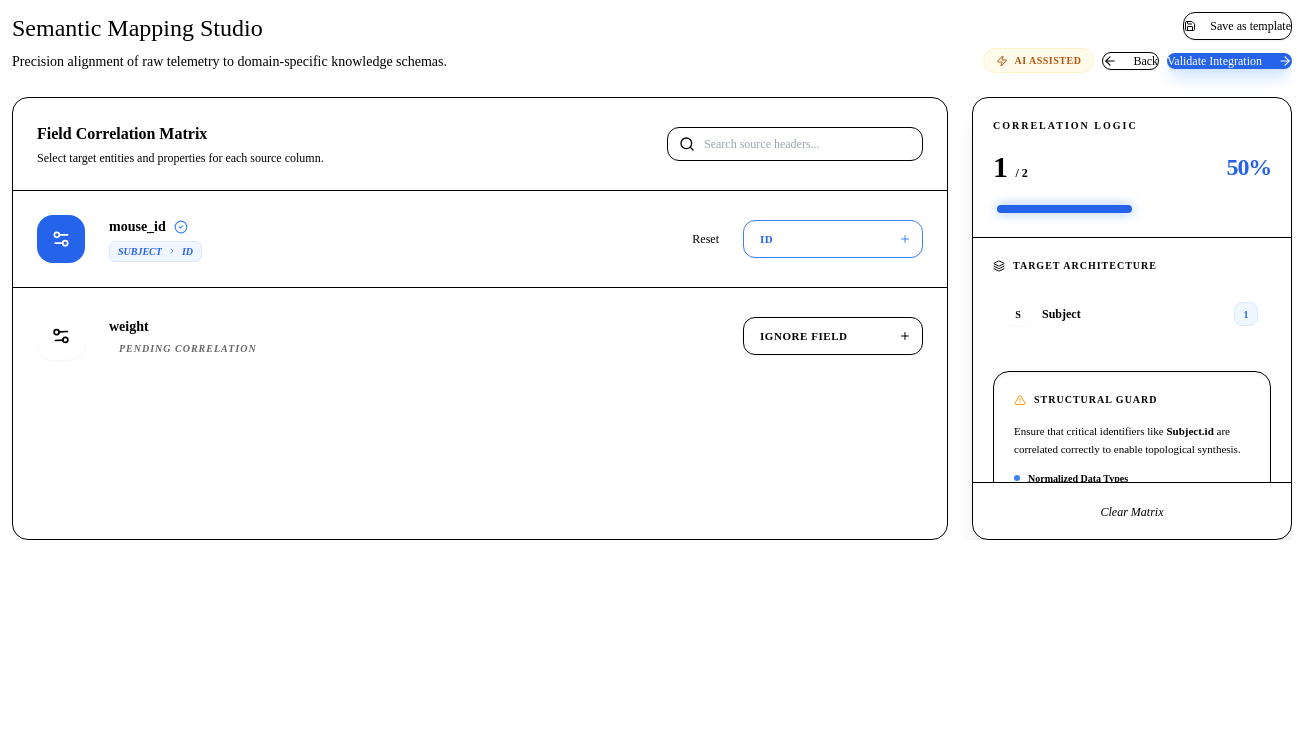
Scenario: MappingStudio — mapping templates › shows inline save form when "Save as template" is clicked
Click the button "Save as template" at (1238, 26), box [1183,12,1292,40]
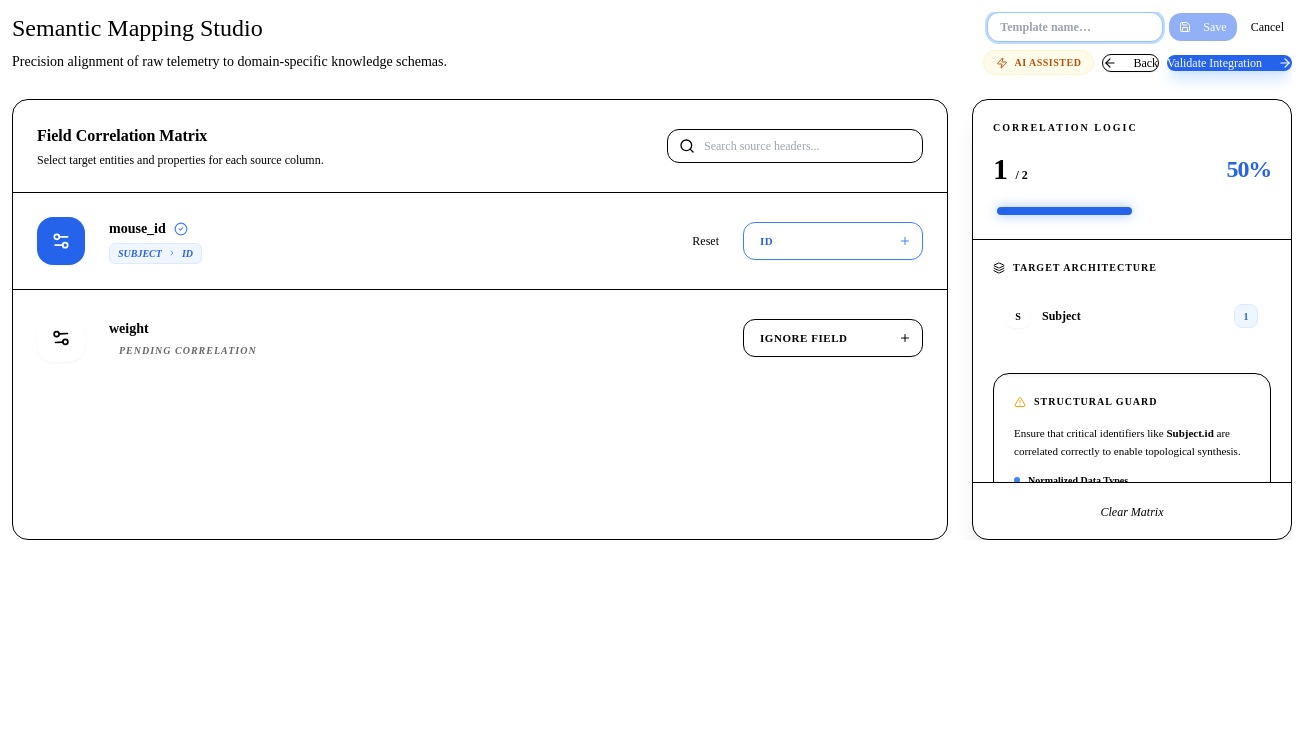
Expected: the button "Save" is shown, [1169,13,1237,41]
Expected: the field with placeholder "Template name…" is shown, [987,12,1163,42]
